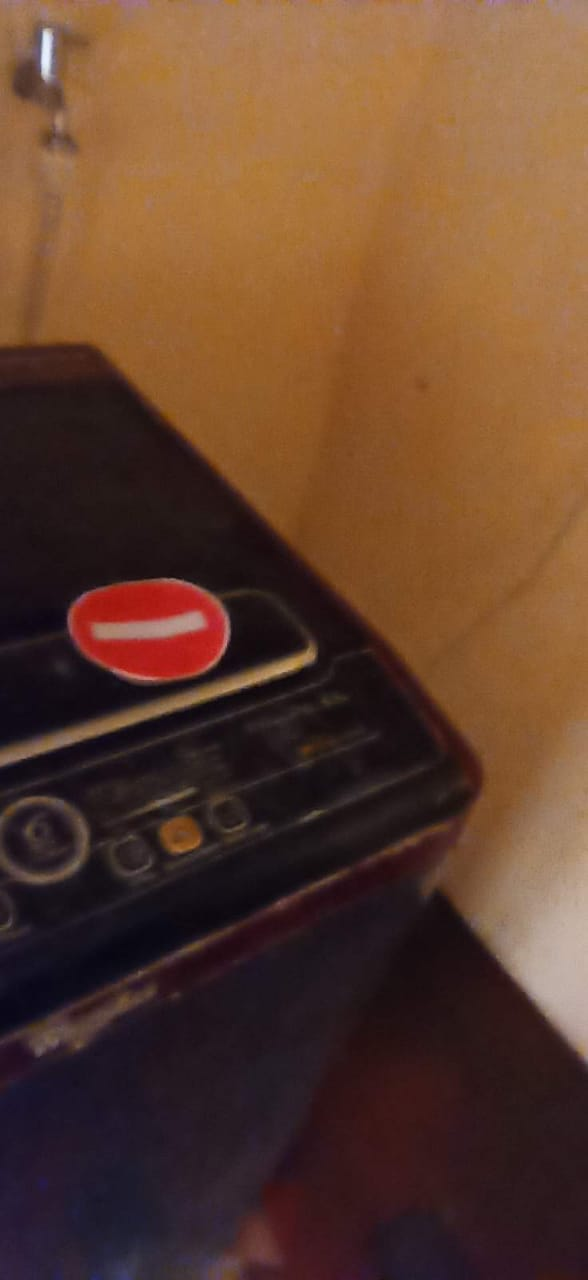NO ENTRY: (55, 557, 254, 692)
